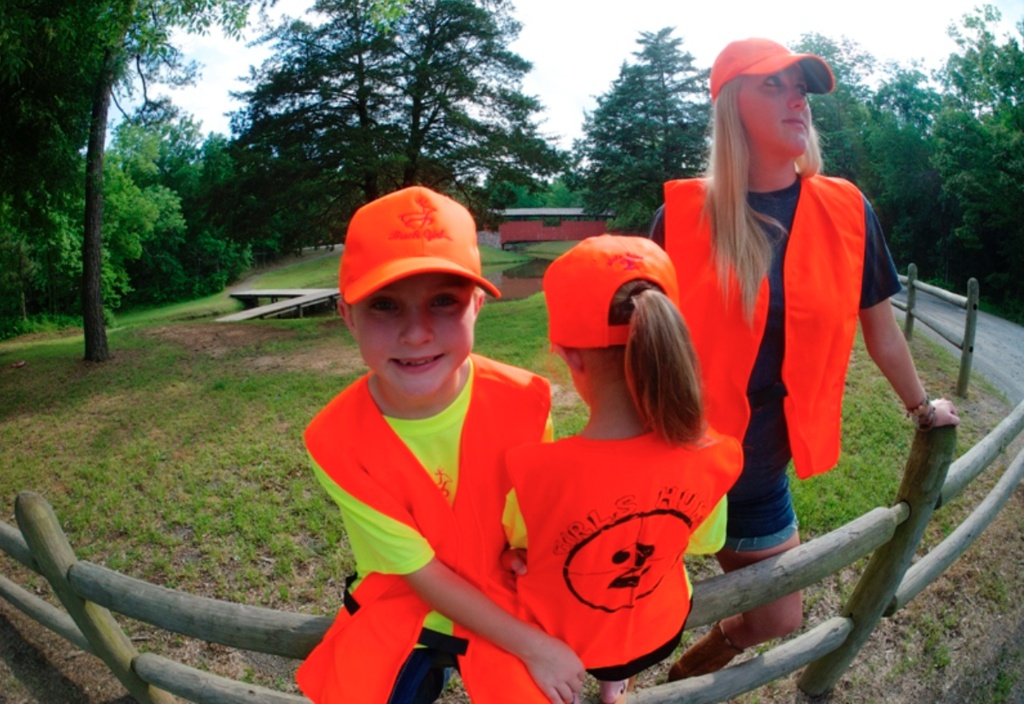person with partial safety: (300, 187, 538, 700), (661, 43, 869, 624), (518, 234, 712, 671)
safety vest: (308, 369, 531, 704), (661, 166, 861, 480), (516, 413, 707, 658)
